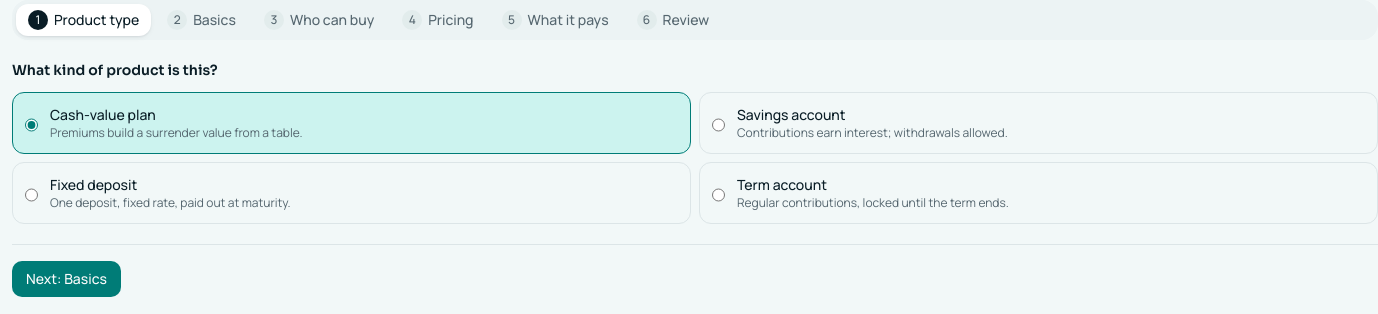
it: PublishVersionForm steps › offers charges only to a product that keeps an account
The image size is (1378, 314).
Expected: the button "Charges" is not shown
Click the radio button labelled "Savings account".
click(718, 125)  # box x1=712 y1=109 x2=725 y2=141
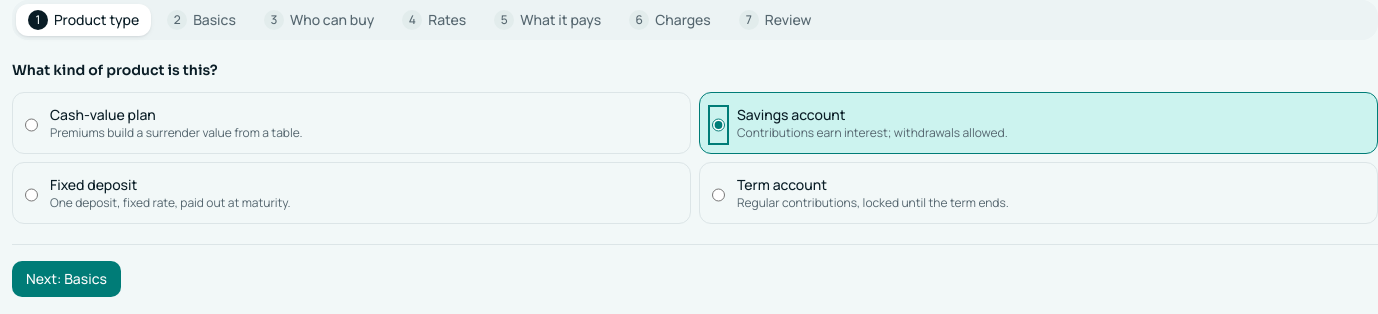
Now the button "6 Charges" is shown, box x1=617 y1=4 x2=723 y2=36
